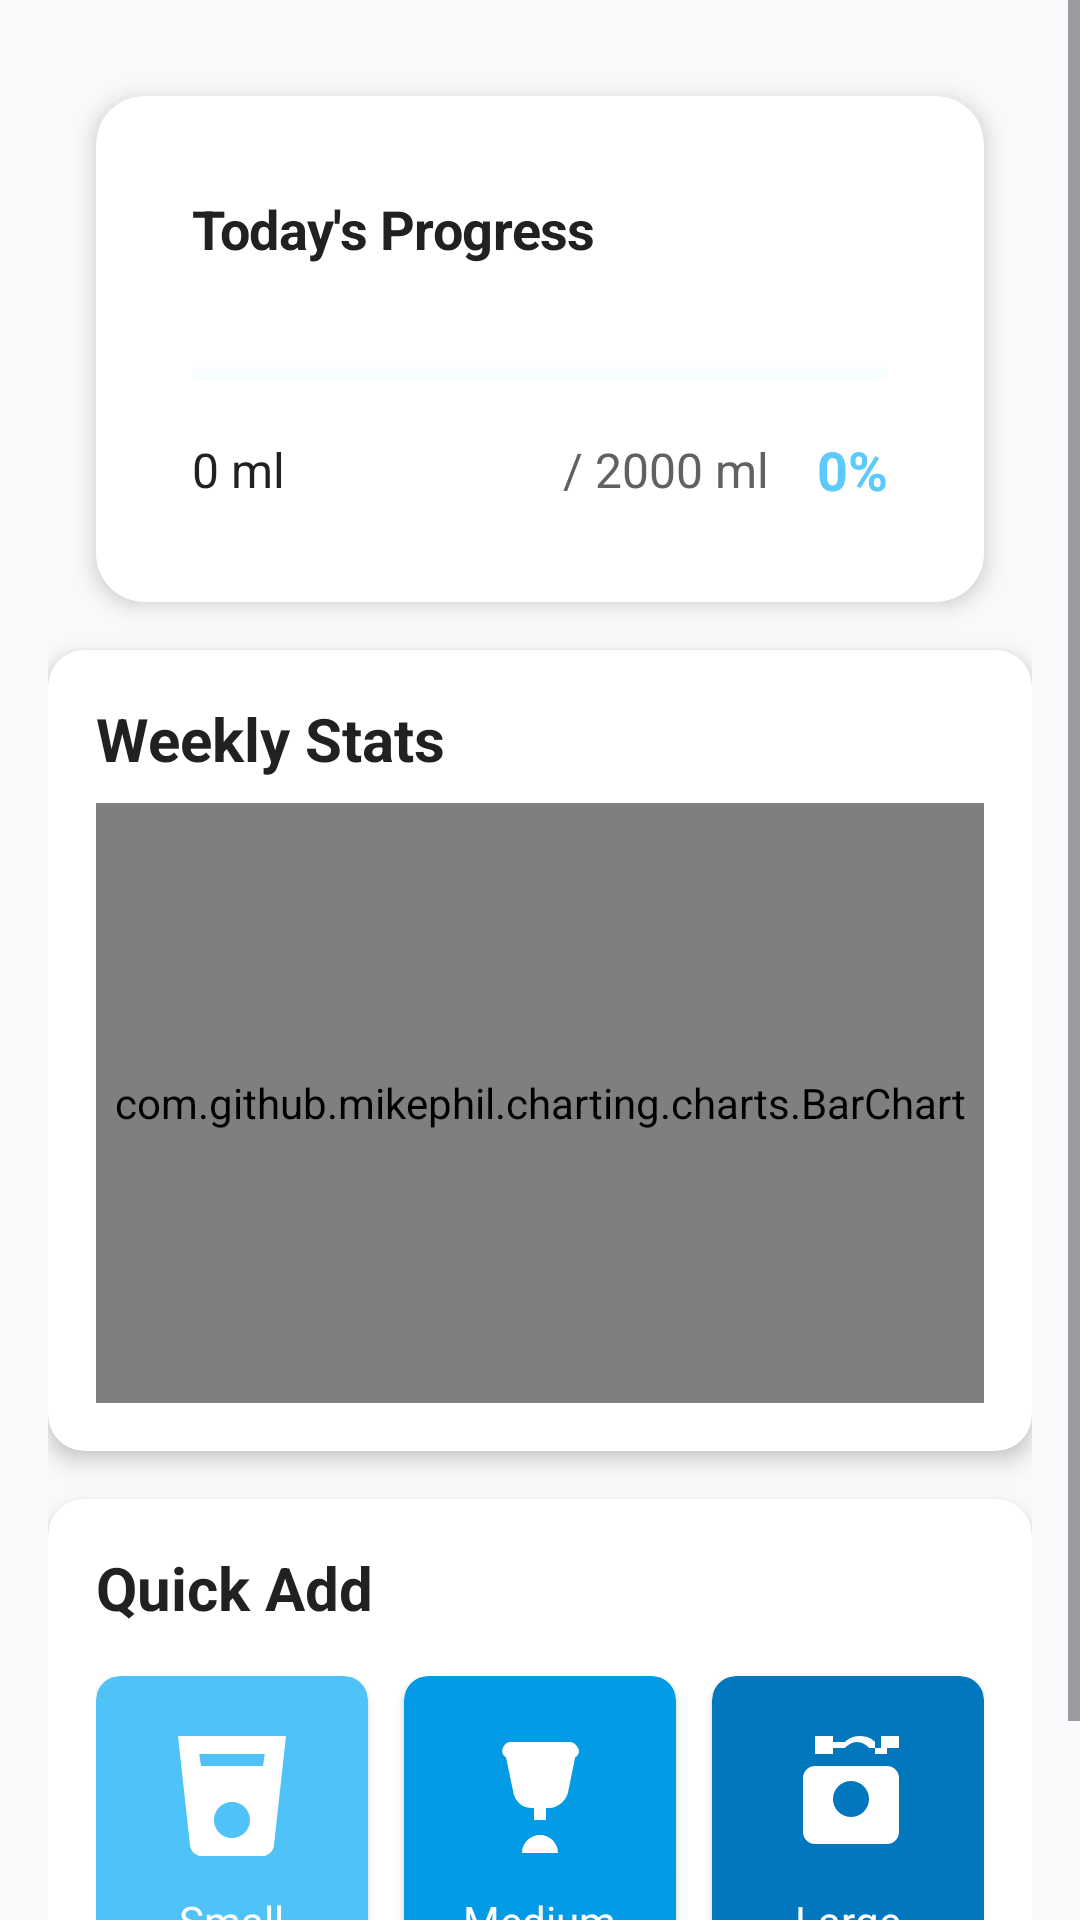

Named icons in this screenshot (1080px x 1920px) and their centers, (x,y):
water bottle: (851,1790)
water cup: (232,1796)
water glass: (540,1797)
